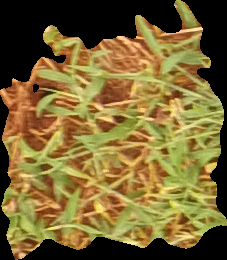grass: (1, 1, 225, 258)
